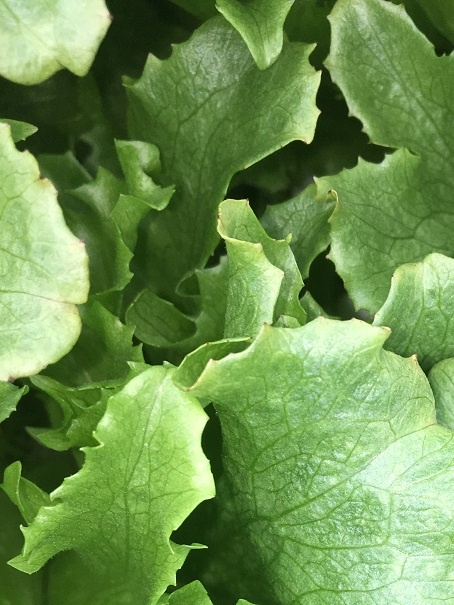tipburn: (64, 297, 86, 319), (405, 346, 427, 368), (34, 166, 54, 189), (209, 206, 229, 227), (296, 131, 318, 150), (73, 232, 94, 251), (378, 321, 399, 340), (3, 367, 21, 389), (239, 192, 258, 211), (236, 159, 256, 177), (385, 268, 405, 286), (180, 379, 199, 397), (258, 316, 275, 335), (103, 9, 120, 28), (324, 185, 340, 204), (202, 354, 220, 369), (312, 309, 330, 324), (369, 308, 385, 324), (200, 337, 216, 350)
